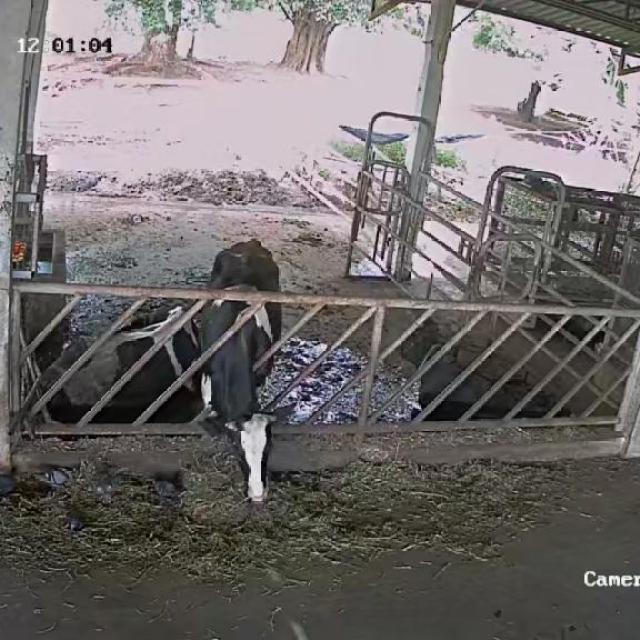feeding: (192, 230, 294, 512)
